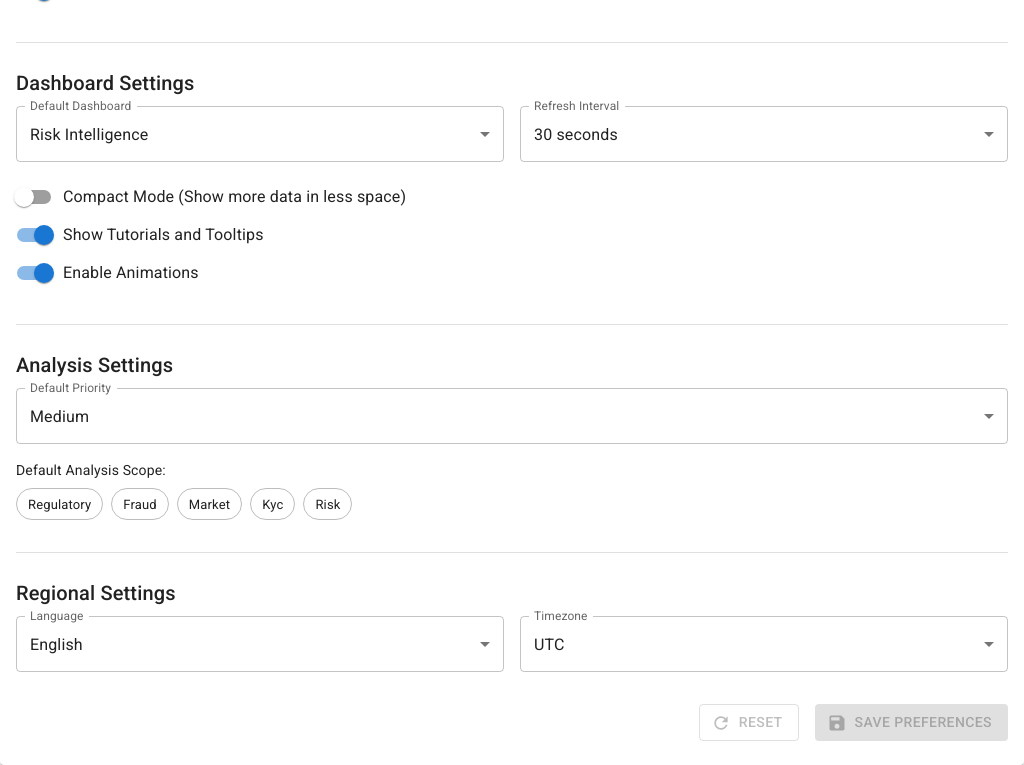
Test: UserPreferences › should toggle analysis scope chips
The image size is (1024, 765).
(page scrolled)
Click the button "Regulatory" at coordinates (60, 504), box [16,488,103,520]
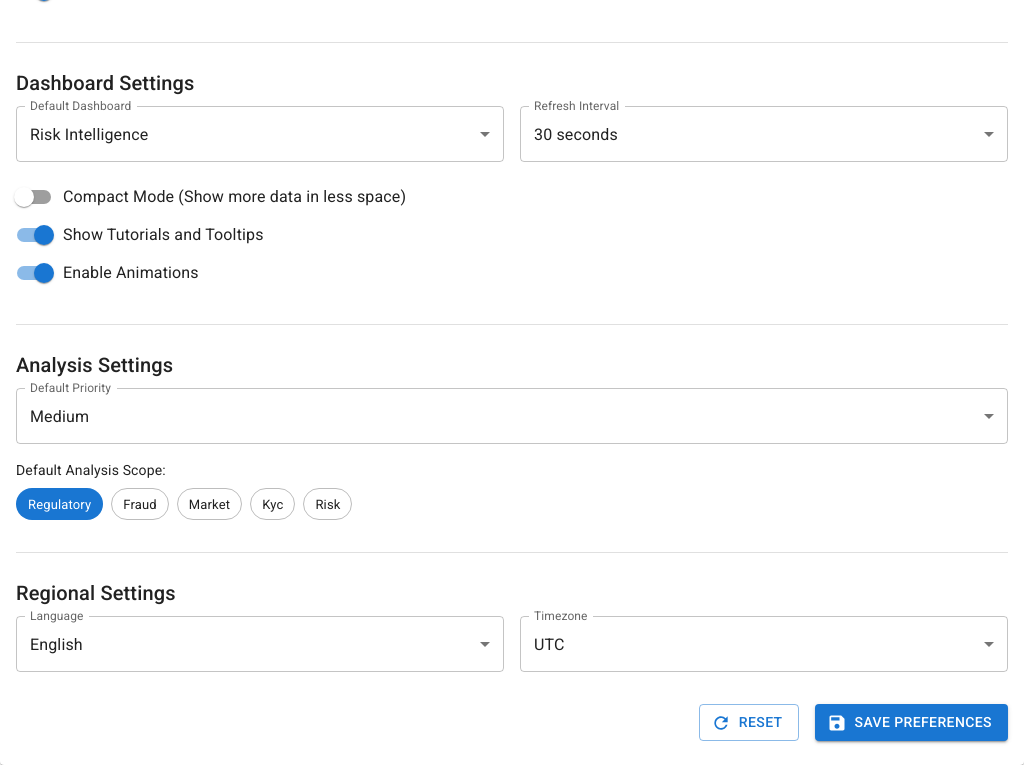
Now the button "Save Preferences" is enabled, box [814,704,1008,741]
